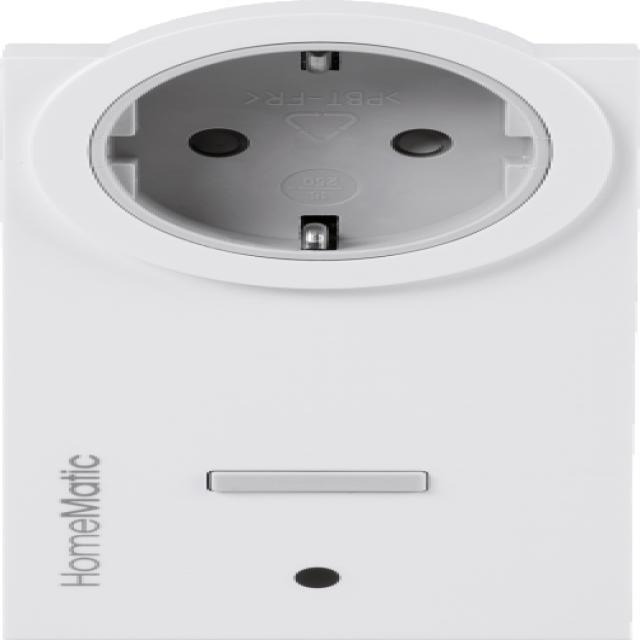typeb: (15, 1, 640, 298)
